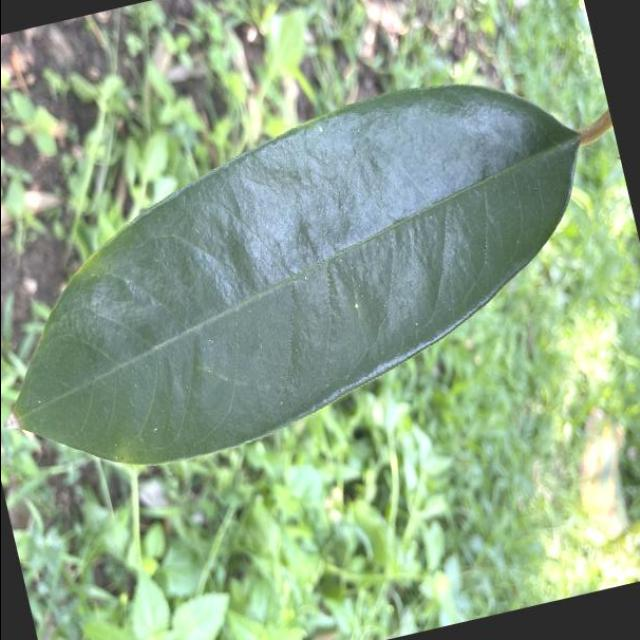No Disease: (1, 39, 634, 509)
